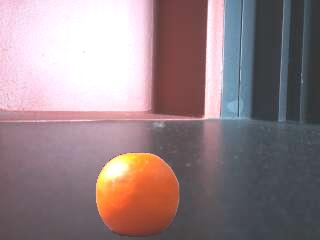Orange: (96, 152, 180, 238)
